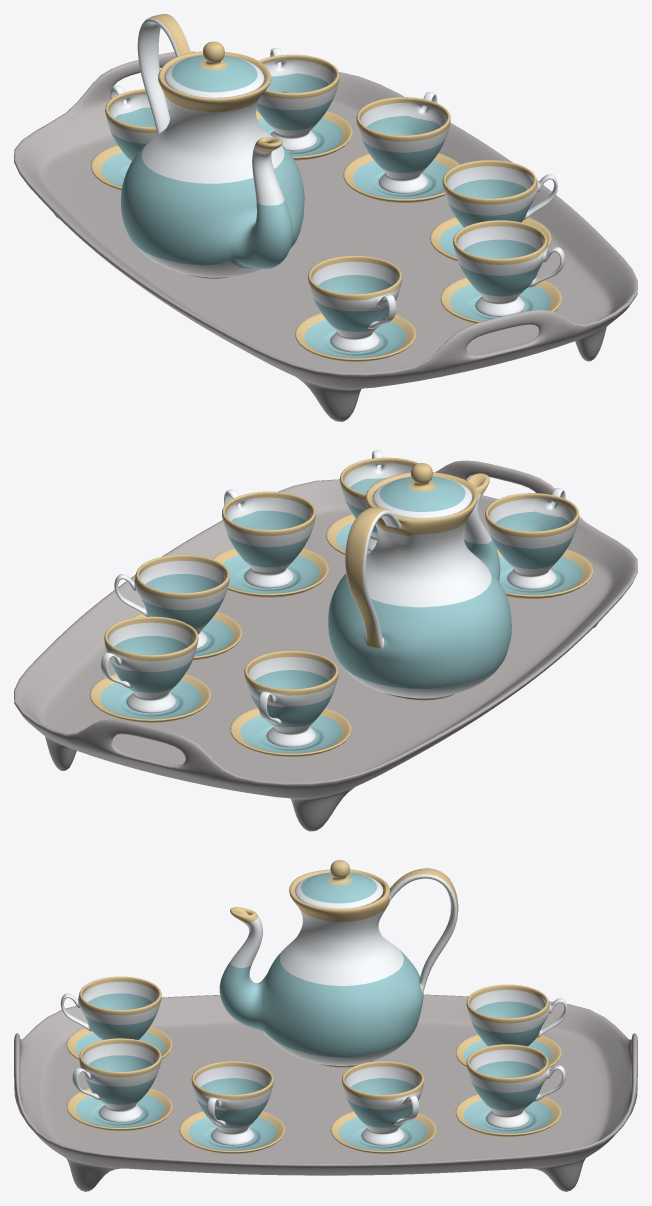
3 views of the same model, one above another, from view 1: azimuth 30°, elevation 25°; view 2: azimuth 150°, elevation 25°; view 3: azimuth 270°, elevation 25° (orthographic). The views are drawn at different scales.
Visible parts, largest first — view 1: Plane, Teapot, Teacup.001, Teacup, Teacup.003, Teacup.004, Teacup.002, Teapot_Lid, Teacup_Saucer, Teacup.005, Teacup_Saucer.003, Teacup_Saucer.001 (+3 smaller); view 2: Plane, Teapot, Teacup.004, Teacup.002, Teacup, Teacup.005, Teacup.003, Teapot_Lid, Teacup_Saucer.005, Teacup_Saucer.004, Teacup_Saucer.002, Teacup.001 (+3 smaller); view 3: Plane, Teapot, Teacup.004, Teacup.001, Teacup.003, Teacup.002, Teacup, Teacup.005, Teapot_Lid, Teacup_Saucer.002, Teacup_Saucer.004, Teacup_Saucer.003 (+3 smaller).
Boxes of the visible parts, x1,y1,x2,y2 form: Plane: (14,51,637,421); Teapot: (121,14,304,278); Teacup.001: (453,220,565,316); Teacup: (308,255,402,352); Teacup.003: (356,92,450,193); Teacup.004: (256,48,339,151); Teacup.002: (442,160,557,227); Teapot_Lid: (164,41,264,97); Teacup_Saucer: (295,313,416,361); Teacup.005: (105,85,170,161); Teacup_Saucer.003: (343,153,459,202); Teacup_Saucer.001: (440,277,561,323); Plane: (14,460,637,831); Teapot: (328,472,511,700); Teacup.004: (101,616,198,713); Teacup.002: (222,489,315,588); Teacup: (485,488,579,589); Teacup.005: (244,650,338,747); Teacup.003: (114,554,229,649); Teapot_Lid: (372,463,472,518); Teacup_Saucer.005: (230,708,351,756); Teacup_Saucer.004: (89,673,211,722); Teacup_Saucer.002: (213,548,328,597); Teacup.001: (340,450,418,551); Plane: (14,994,637,1191); Teapot: (219,868,458,1067); Teacup.004: (466,1044,565,1128); Teacup.001: (72,1038,161,1122); Teacup.003: (342,1061,424,1145); Teacup.002: (191,1061,273,1145); Teacup: (60,976,161,1039); Teacup.005: (466,984,567,1046); Teapot_Lid: (295,860,383,908); Teacup_Saucer.002: (179,1111,285,1153); Teacup_Saucer.004: (455,1094,561,1136); Teacup_Saucer.003: (330,1111,436,1153).
Bounding box in the file's own units: 2.41 × 1.52 × 3.7.
